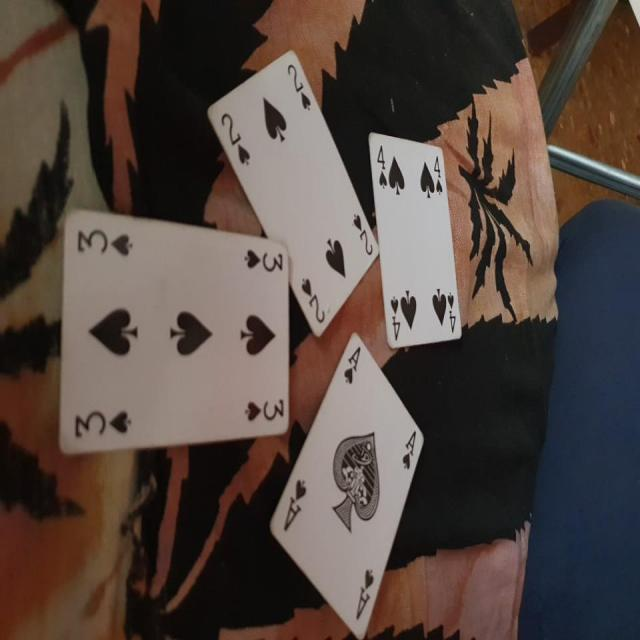2 Spades: (259, 287, 438, 597)
3 Spades: (348, 185, 583, 423)
4 Spades: (172, 295, 270, 504)
A Spades: (210, 0, 370, 307)
